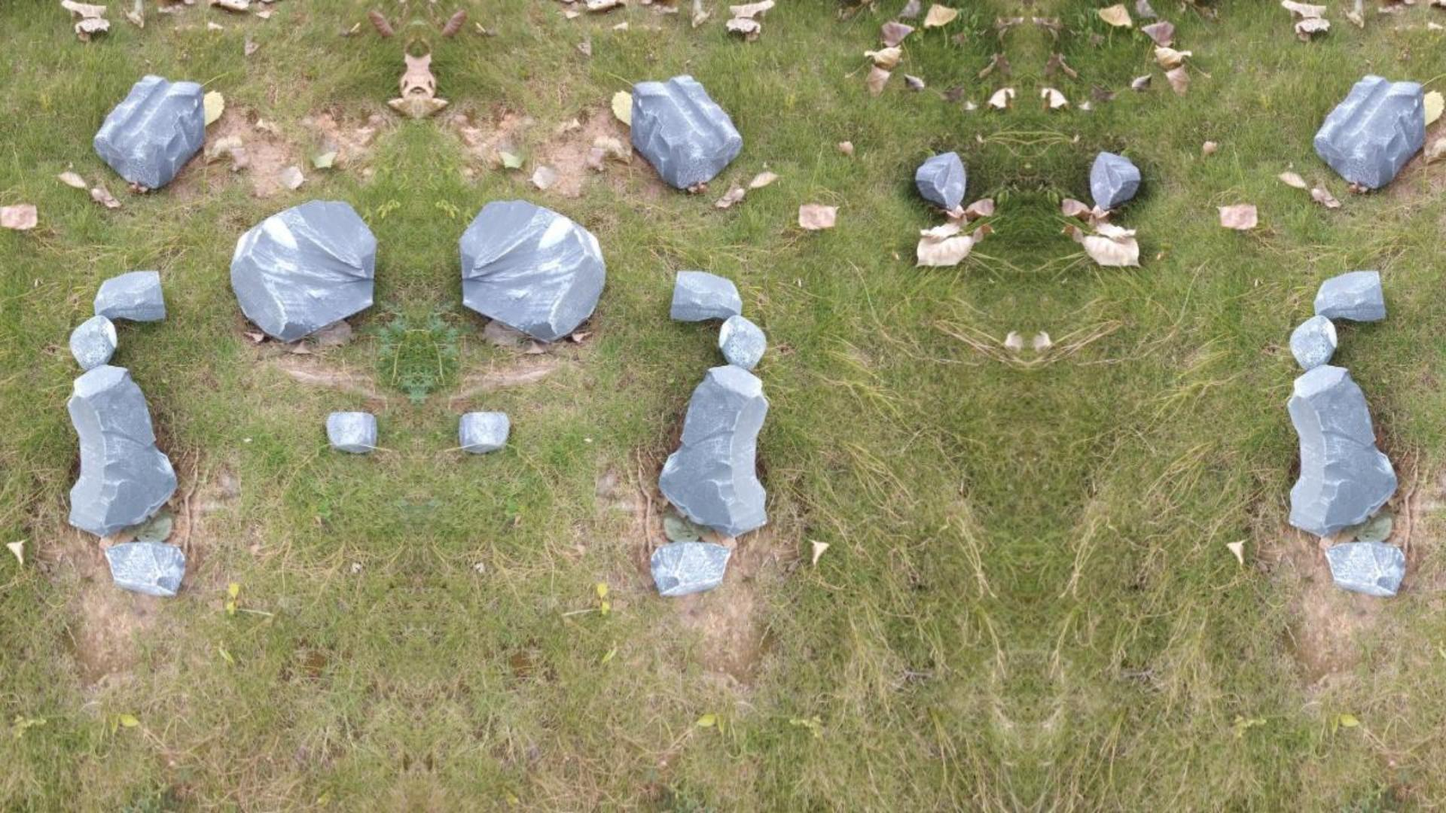rock: (230, 200, 375, 341), (460, 200, 604, 341), (659, 365, 768, 535), (68, 364, 176, 535), (1288, 364, 1396, 534), (630, 75, 741, 189), (94, 75, 203, 190), (1314, 75, 1423, 189), (651, 542, 730, 596), (105, 542, 184, 596), (1325, 542, 1404, 596), (670, 271, 741, 321), (94, 271, 165, 321), (1314, 271, 1385, 321), (915, 151, 965, 209), (1090, 151, 1140, 208), (718, 315, 766, 369), (69, 315, 116, 369), (1289, 315, 1336, 369), (326, 412, 376, 454), (459, 412, 508, 454)
